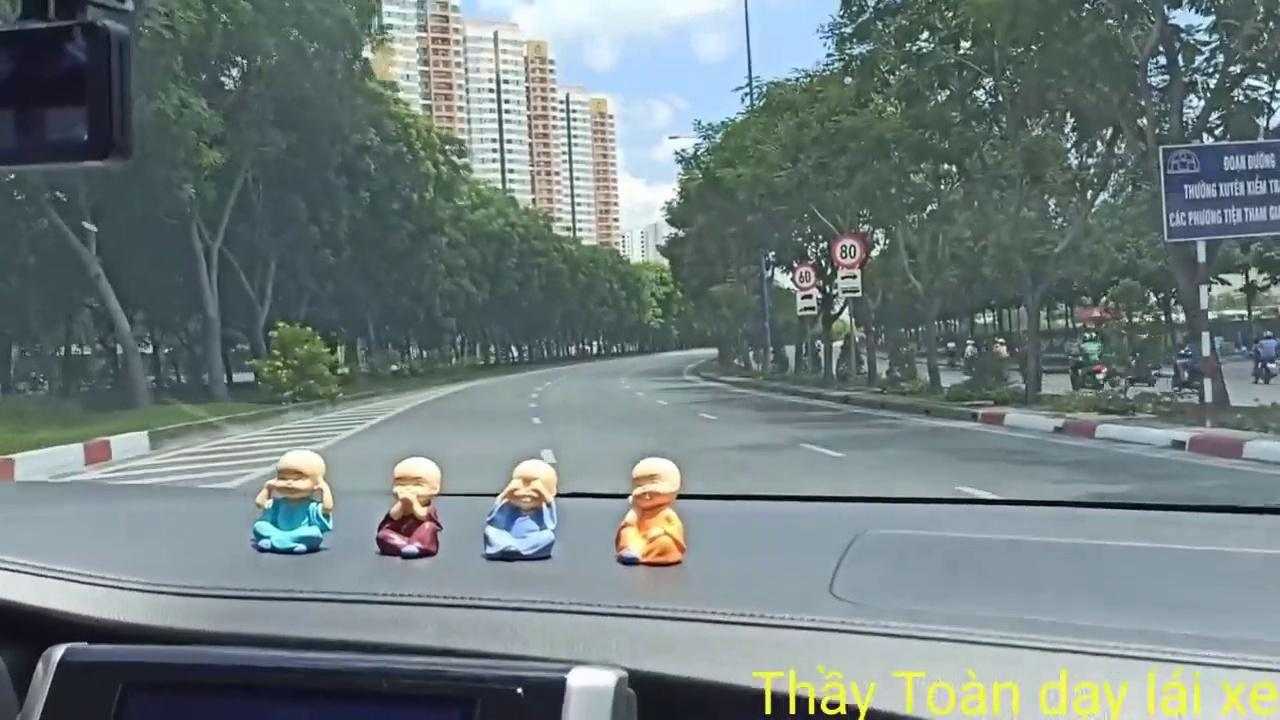Biển phụ: (836, 270, 863, 296), (796, 291, 817, 314)
GIơi hạn tốc độ 60Km/h: (793, 261, 818, 290)
Giới hạn tốc độ 80Km/h: (831, 233, 866, 269)
